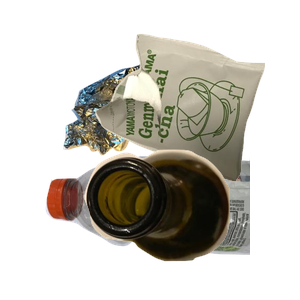glass: (82, 147, 300, 300)
metal: (61, 54, 225, 202)
plastic: (43, 152, 283, 300)
trash: (93, 31, 300, 205)
